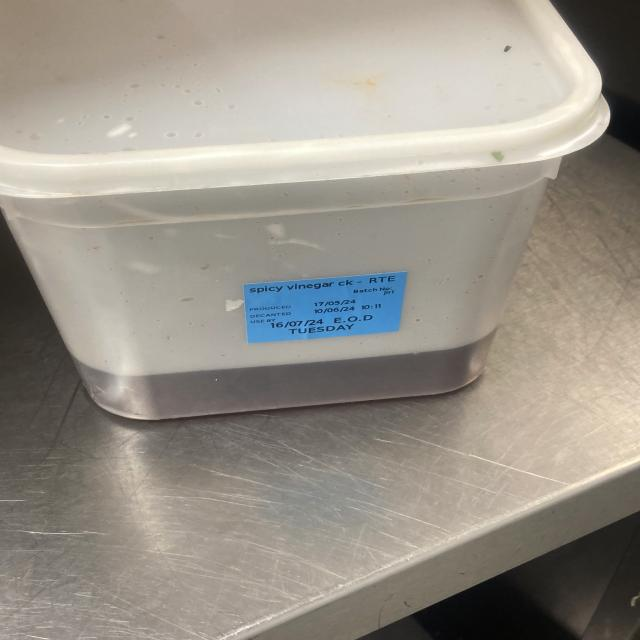product-labels: (242, 272, 406, 344)
